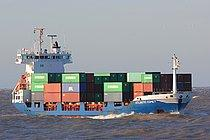Ship: (11, 23, 197, 121)
